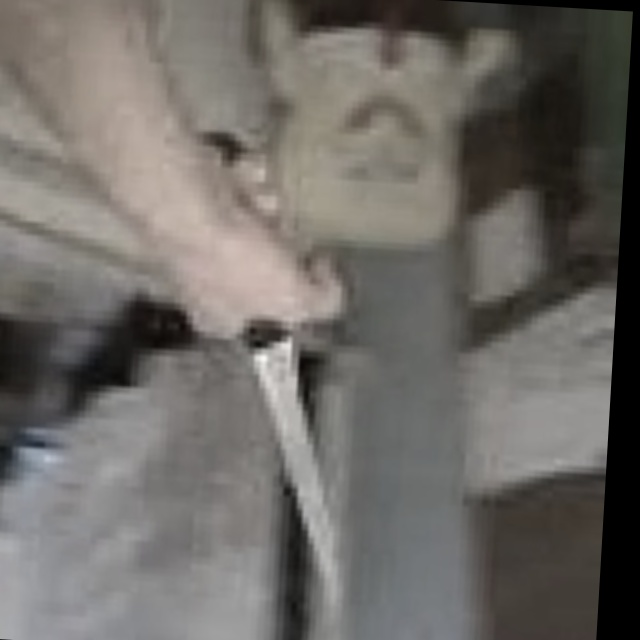Sharp-Object: (171, 125, 366, 601)
